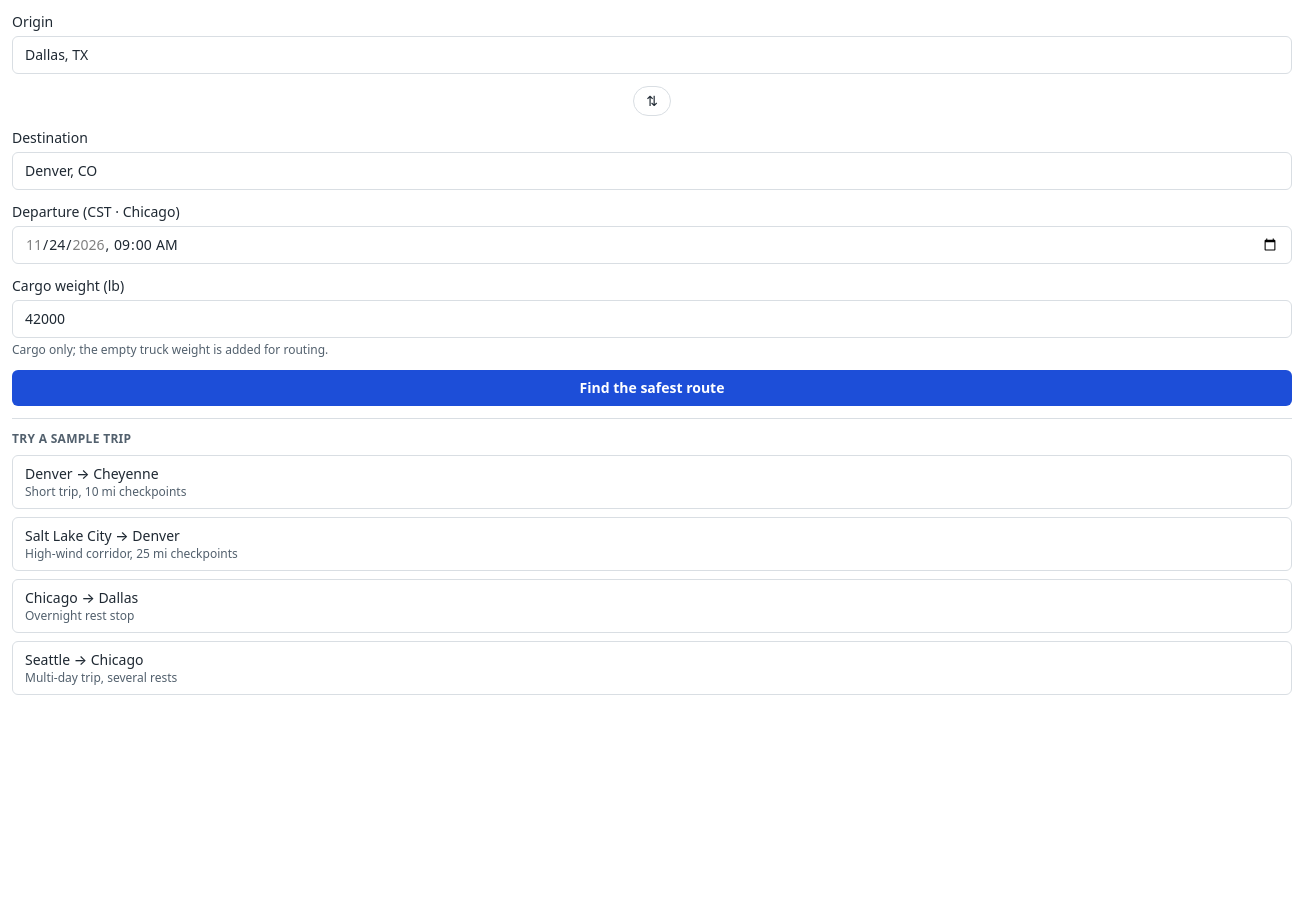
submitting › rejects a departure in the past
Click the button "Find the safest route".
click(652, 388)  # box [12,370,1292,406]
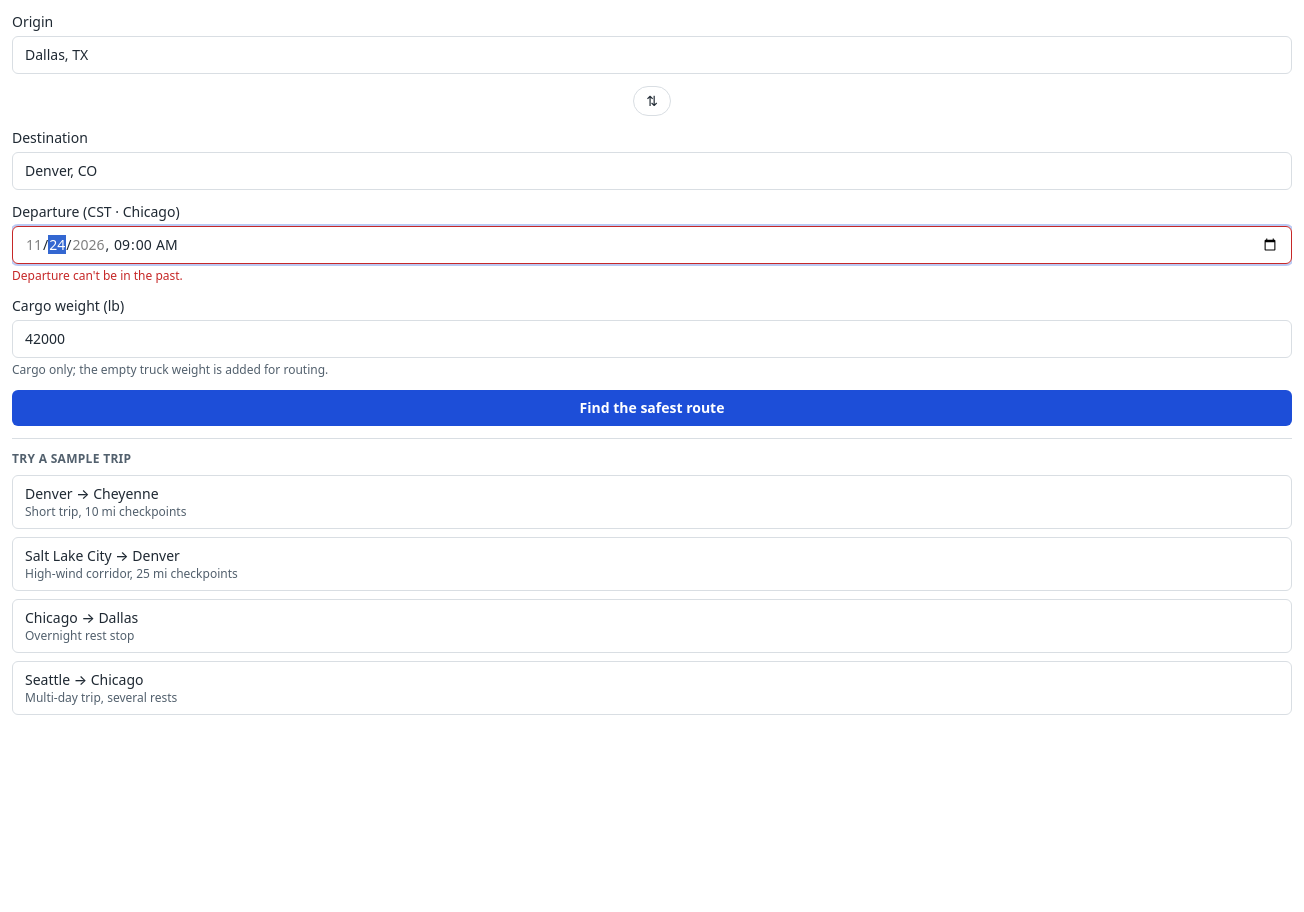
Expected: the message reads "Departure can't be in the past.", [12,267,183,284]
